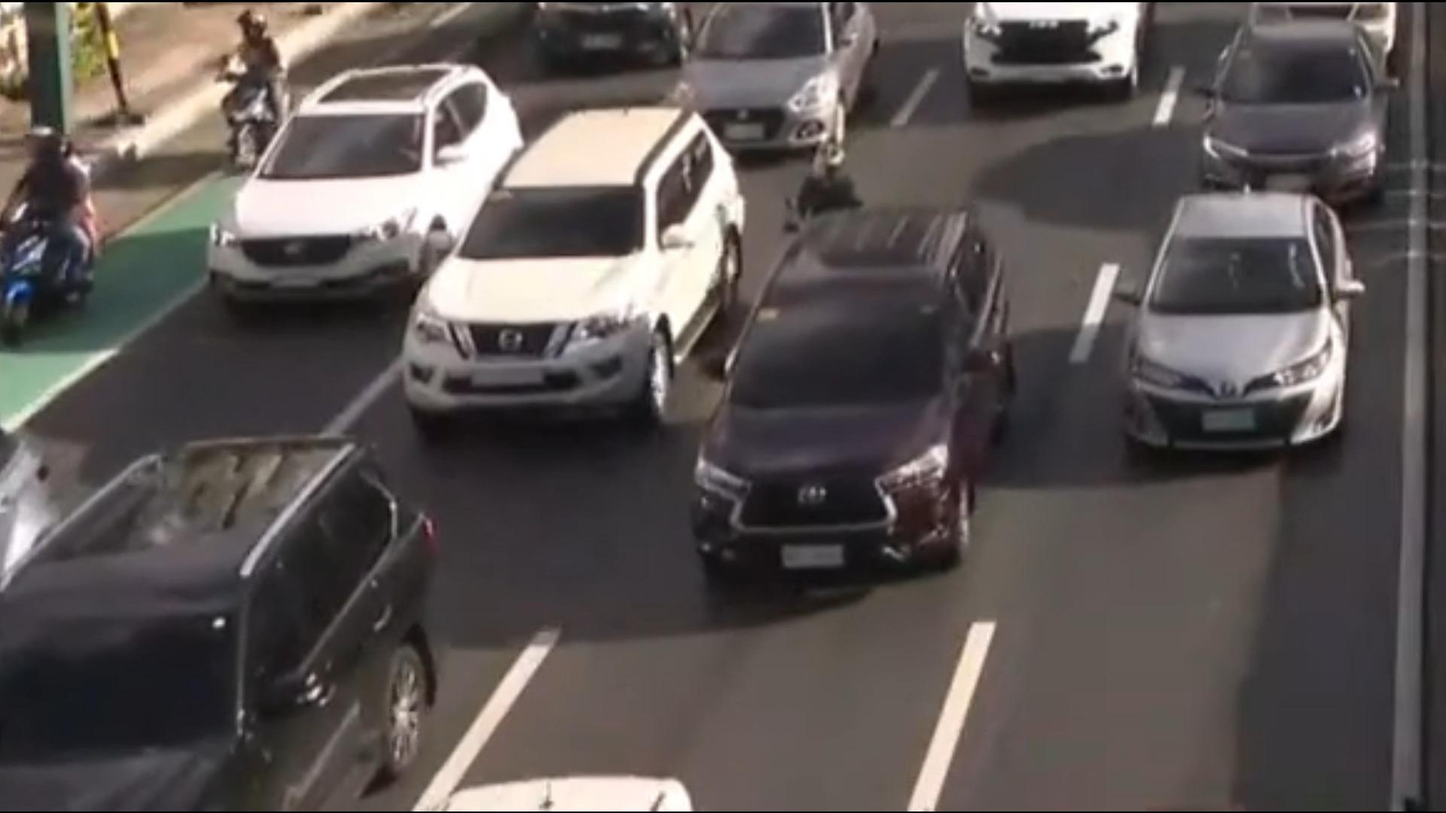Motorcycle: (0, 110, 117, 371), (200, 12, 290, 185), (789, 142, 873, 226)
SUV: (0, 418, 467, 813), (668, 175, 1059, 613), (406, 96, 757, 468), (177, 38, 554, 352)
Sedan: (1078, 177, 1388, 479), (1195, 14, 1412, 214), (632, 0, 885, 152)
